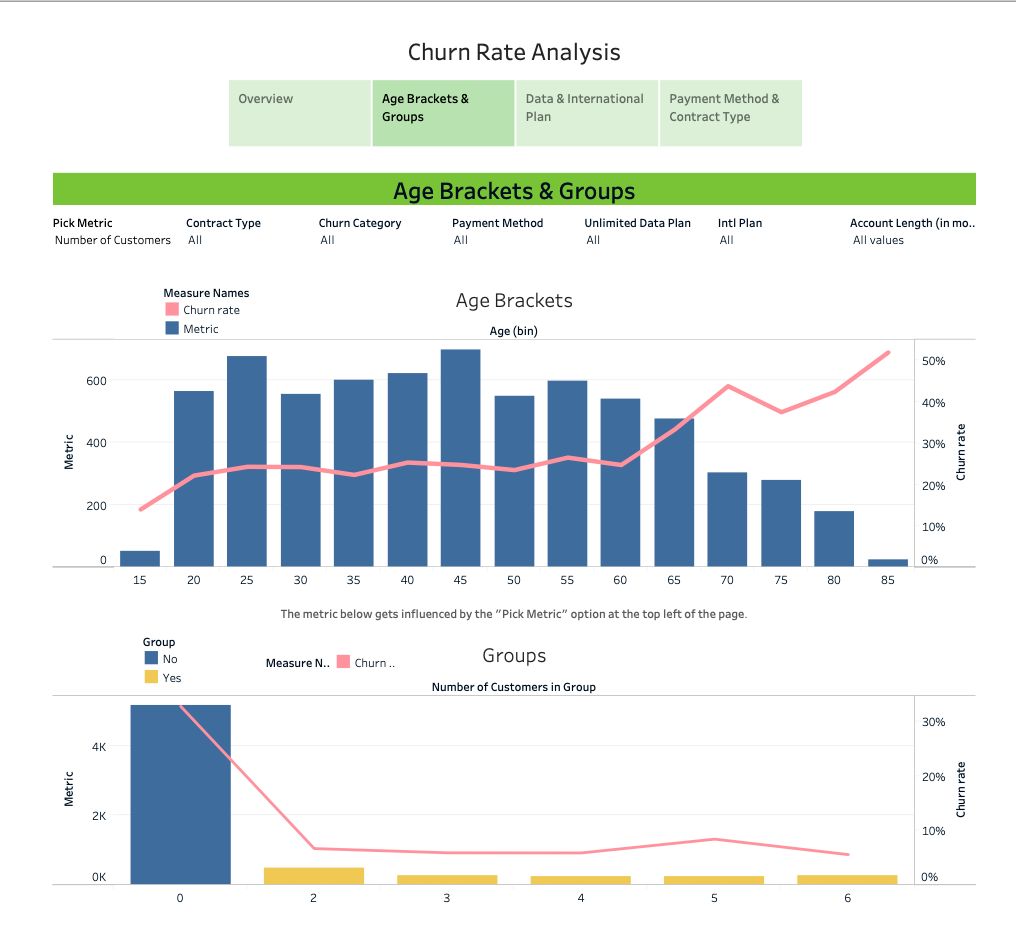

This screenshot's page, from the dashboard's own definition file:
{"tool":"tableau","page":{"name":"Age Brackets & Groups","canvas":[1000,800],"ordinal":0},"visuals":[{"type":"title","box":[8,8,984,41]},{"type":"parameter","param":"[Parameters].[Parameter 1]","box":[8,49,140.6,71.1]},{"type":"filter","title":"Age Brackets","param":"[federated.1559pdh1893exj185r2jq1n05w4m].[none:Contract Type:nk]","box":[148.6,49,140.6,71.1]},{"type":"filter","title":"Age Brackets","param":"[federated.1559pdh1893exj185r2jq1n05w4m].[none:Churn Category:nk]","box":[289.1,49,140.6,71.1]},{"type":"filter","title":"Age Brackets","param":"[federated.1559pdh1893exj185r2jq1n05w4m].[none:Payment Method:nk]","box":[429.7,49,140.6,71.1]},{"type":"filter","title":"Age Brackets","param":"[federated.1559pdh1893exj185r2jq1n05w4m].[none:Unlimited Data Plan:nk]","box":[570.3,49,140.6,71.1]},{"type":"filter","title":"Age Brackets","param":"[federated.1559pdh1893exj185r2jq1n05w4m].[none:Intl Plan:nk]","box":[710.9,49,140.6,71.1]},{"type":"filter","title":"Age Brackets","param":"[federated.1559pdh1893exj185r2jq1n05w4m].[none:Account Length (in months):qk]","box":[851.4,49,140.6,71.1]},{"type":"worksheet","title":"Age Brackets","mark":"Bar","rows":["Calculation_627126265089003520","Calculation_161848126833676291"],"cols":["Age (bin)"],"box":[8,120.1,984,336]},{"type":"legend","title":"Age Brackets","param":"[federated.1559pdh1893exj185r2jq1n05w4m].[:Measure Names]","box":[128,127,150,58]},{"type":"text","box":[8,456,984,40.6]},{"type":"legend","title":"Groups","param":"[federated.1559pdh1893exj185r2jq1n05w4m].[none:Group:nk]","box":[106,496,122,66]},{"type":"worksheet","title":"Groups","mark":"Bar","rows":["Calculation_627126265089003520","Calculation_161848126833676291"],"cols":["Number of Customers in Group"],"box":[8,496.6,984,295.4]},{"type":"legend","title":"Groups","param":"[federated.1559pdh1893exj185r2jq1n05w4m].[:Measure Names]","box":[237,519,140,38]}]}

Visuals, with their boxes on the page's 1000x800 design canvas (x1, y1, x2, y2). These are canvas units, not pixel positions in the 1016x930 screenshot, which may show the page scaled, cropped or inside an application window:
title: BBox(8, 8, 992, 49)
parameter: BBox(8, 49, 149, 120)
"Age Brackets" filter: BBox(149, 49, 289, 120)
"Age Brackets" filter: BBox(289, 49, 430, 120)
"Age Brackets" filter: BBox(430, 49, 570, 120)
"Age Brackets" filter: BBox(570, 49, 711, 120)
"Age Brackets" filter: BBox(711, 49, 852, 120)
"Age Brackets" filter: BBox(851, 49, 992, 120)
"Age Brackets" worksheet (Bar marks): BBox(8, 120, 992, 456)
"Age Brackets" legend: BBox(128, 127, 278, 185)
text: BBox(8, 456, 992, 497)
"Groups" legend: BBox(106, 496, 228, 562)
"Groups" worksheet (Bar marks): BBox(8, 497, 992, 792)
"Groups" legend: BBox(237, 519, 377, 557)
